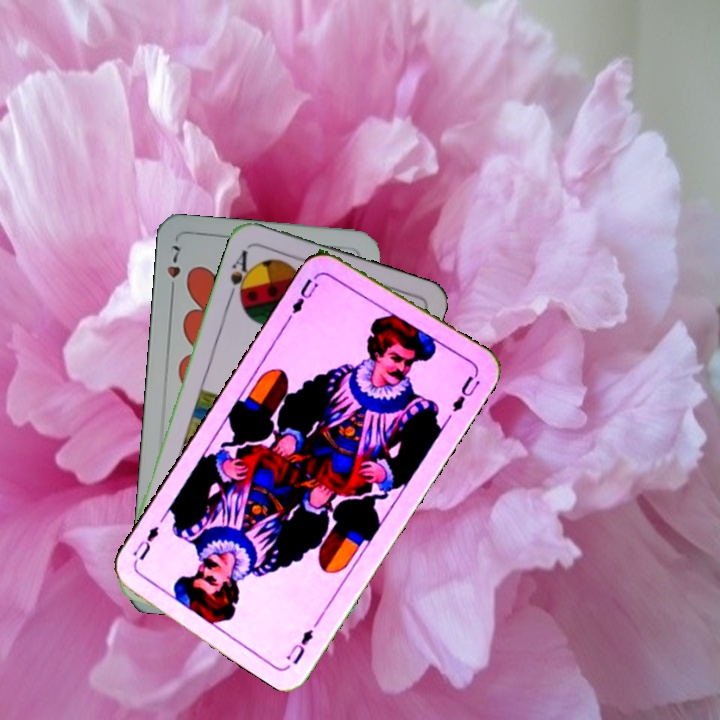EU: (284, 274, 321, 322), (282, 625, 316, 667)
H7: (163, 241, 183, 298)
SA: (225, 246, 256, 304)
